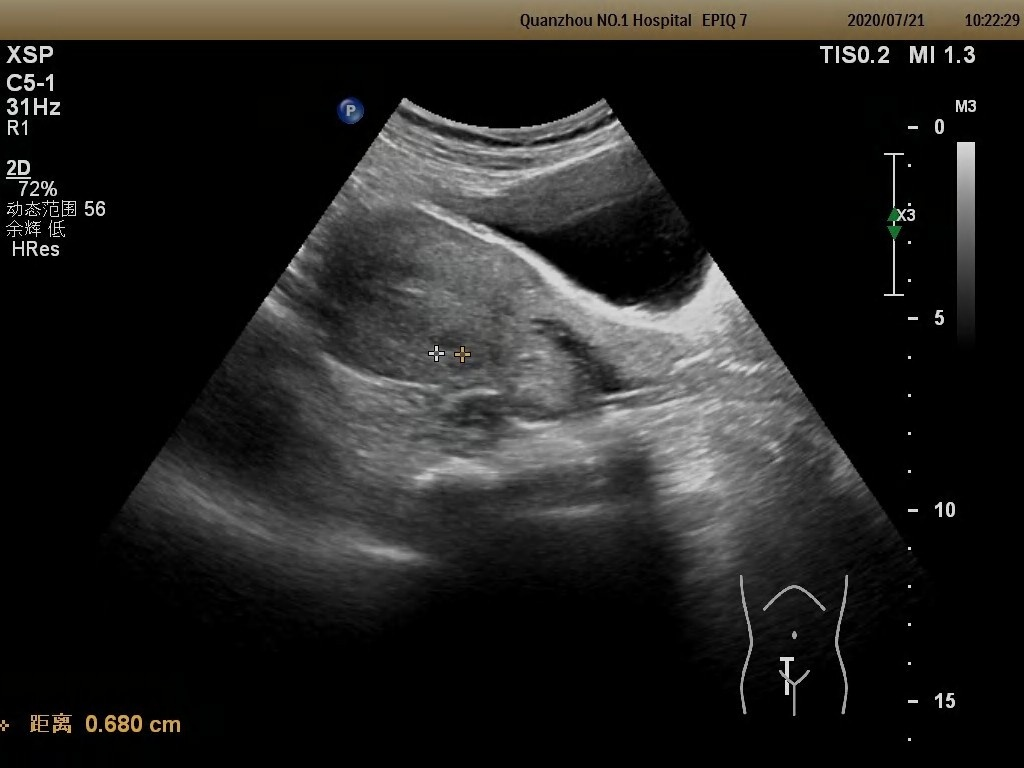肌瘤: (434, 334, 460, 349)
